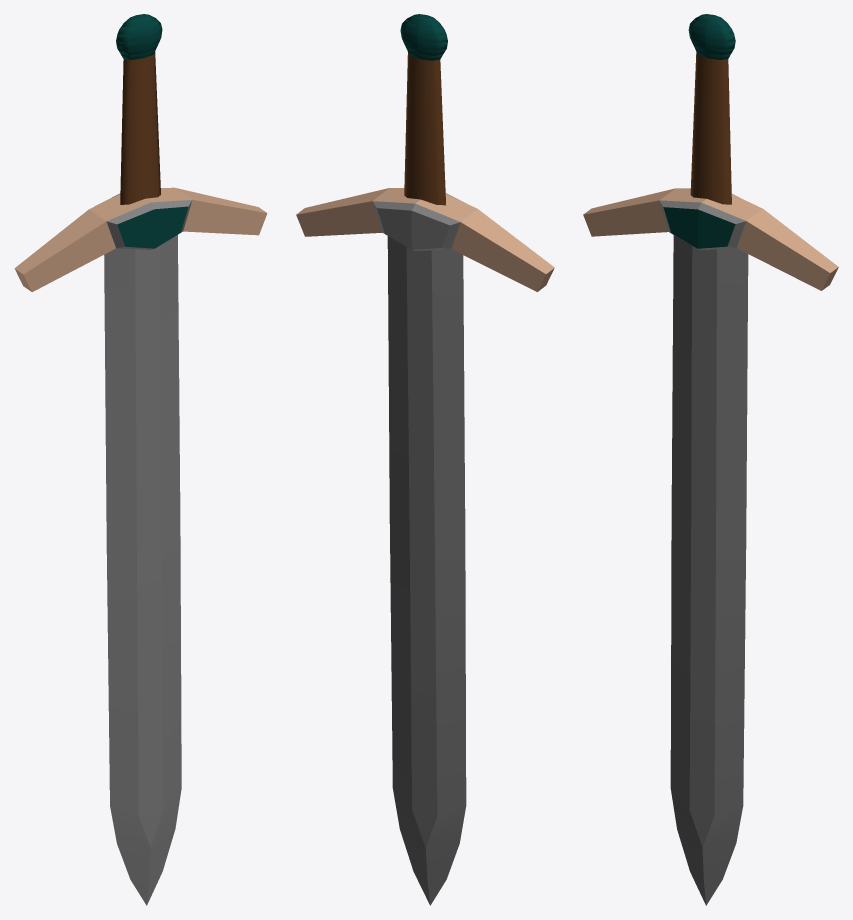
Rendered from Sword_4.fbx.
3 renders of one model, left to right at view 1: azimuth 30°, elevation 25°; view 2: azimuth 150°, elevation 25°; view 3: azimuth 330°, elevation 25°, orthographic.
Parts seen in each view (by area): view 1: Sword3.009; view 2: Sword3.009; view 3: Sword3.009.
Boxes of the visible parts, left/top/right/bottom form: Sword3.009: left=14, top=14, right=267, bottom=905; Sword3.009: left=296, top=14, right=554, bottom=905; Sword3.009: left=583, top=14, right=838, bottom=905.
Bounding box in the file's own units: 22.33 × 76.72 × 4.35.
